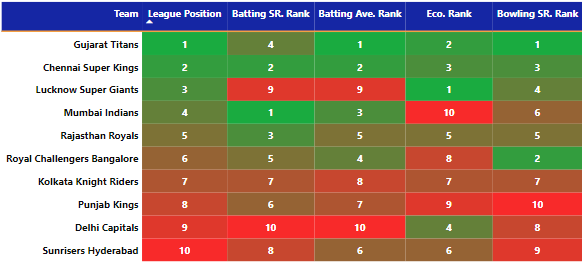

The dashboard page shown, as its layout file describes it:
{"tool":"powerbi","page":{"name":"Rankings","canvas":[1280,720],"ordinal":11},"visuals":[{"type":"tableEx","fields":{"Values":["teams_rank.Team","Sum(league position.Position)","Sum(teams_rank.Batting SR. Rank)","Sum(teams_rank.Batting Ave. Rank)","Sum(teams_rank.Eco. Rank)","Sum(teams_rank.Bowling SR. Rank)"]},"box":[0,0,1279.7,720.3],"z":0}]}

Visuals, with their boxes on the page's 1280x720 design canvas (x1, y1, x2, y2). These are canvas units, not pixel positions in the 582x262 screenshot, which may show the page scaled, cropped or inside an application window:
tableEx - teams_rank.Team x Sum(league position.Position): locate(0, 0, 1280, 720)
